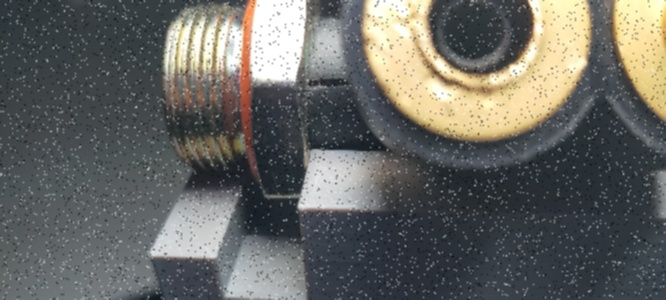craze: (302, 73, 347, 92)
